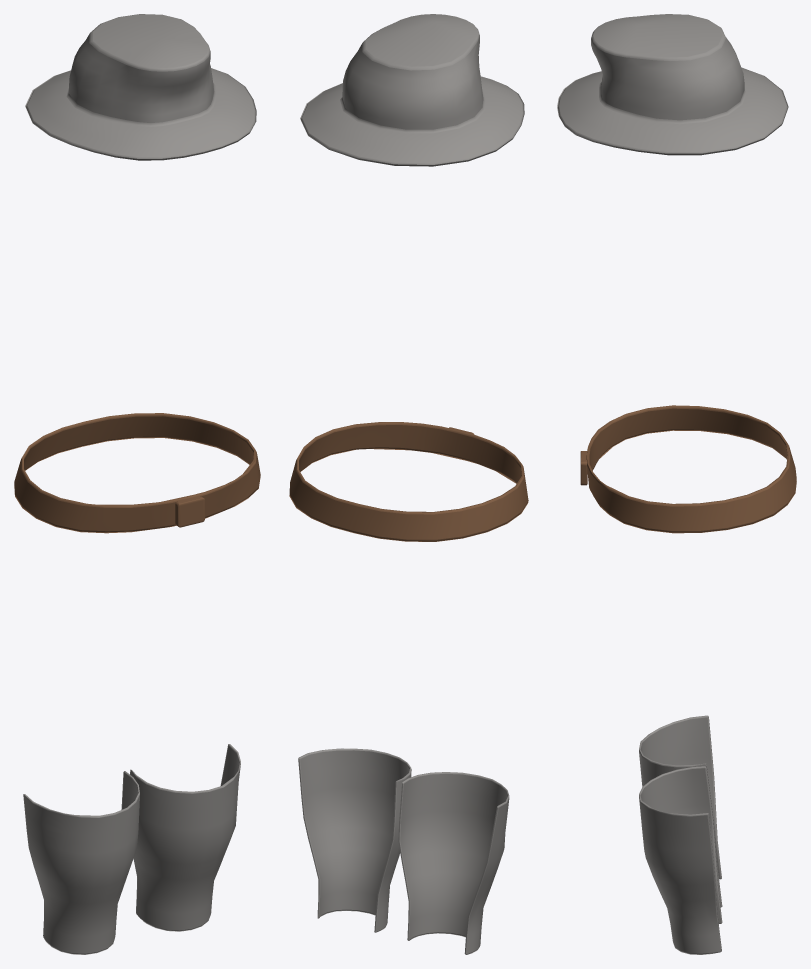
The model's file is armor.soldier.default.gltf.
The picture shows the model from 3 angles, left to right: view 1: azimuth 30°, elevation 25°; view 2: azimuth 150°, elevation 25°; view 3: azimuth 270°, elevation 25°; orthographic projection. The views are drawn at different scales.
Parts seen in each view (by area): view 1: soldier.kettle-hat, soldier.greave_r, soldier.belt, soldier.greave_l; view 2: soldier.kettle-hat, soldier.greave_r, soldier.greave_l, soldier.belt; view 3: soldier.kettle-hat, soldier.belt, soldier.greave_l, soldier.greave_r.
Part boxes in pixels (bbox=[...]): soldier.kettle-hat: bbox=[25, 14, 256, 160]; soldier.greave_r: bbox=[23, 771, 139, 954]; soldier.belt: bbox=[14, 413, 260, 533]; soldier.greave_l: bbox=[130, 744, 240, 931]; soldier.kettle-hat: bbox=[300, 14, 524, 166]; soldier.greave_r: bbox=[398, 772, 509, 954]; soldier.greave_l: bbox=[298, 748, 411, 932]; soldier.belt: bbox=[289, 422, 528, 541]; soldier.kettle-hat: bbox=[557, 14, 788, 155]; soldier.belt: bbox=[580, 405, 796, 533]; soldier.greave_l: bbox=[639, 766, 722, 954]; soldier.greave_r: bbox=[639, 715, 722, 907].
Size of the model in its own units: 0.4169 by 1.68 by 0.408.
